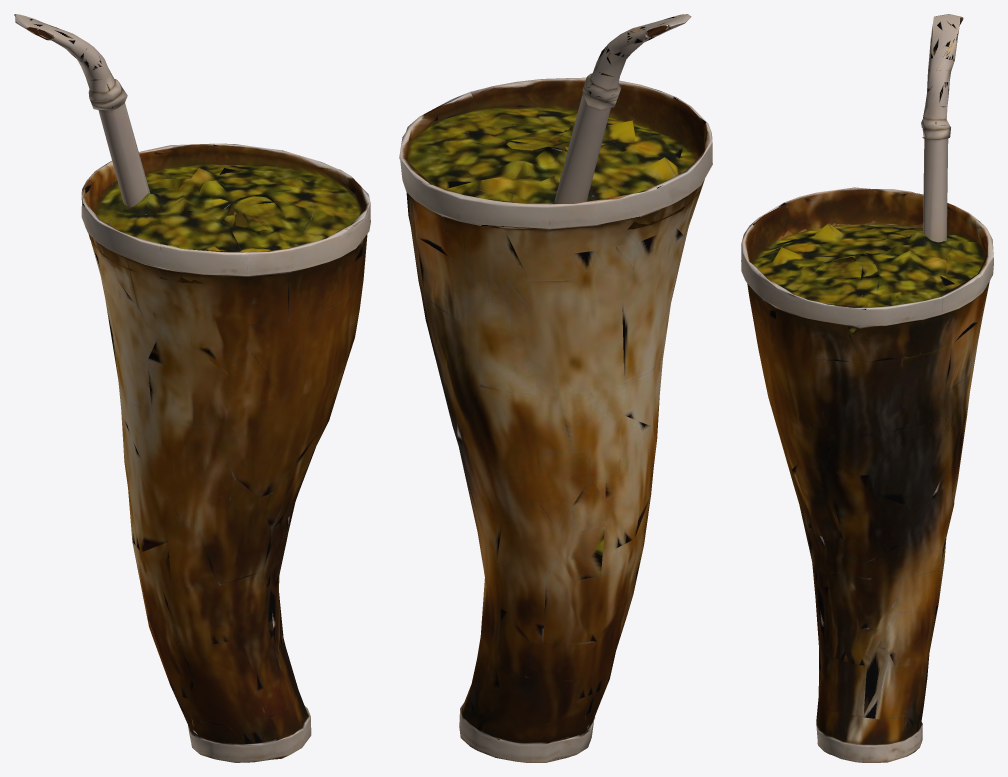
The model's file is terere.glb.
3 views of the same model, side by side, from view 1: azimuth 30°, elevation 25°; view 2: azimuth 150°, elevation 25°; view 3: azimuth 270°, elevation 25° (orthographic). The views are drawn at different scales.
Bounding box in the file's own units: 0.394 × 0.9517 × 0.3354.
Materials: 1 (1 with a texture image).
